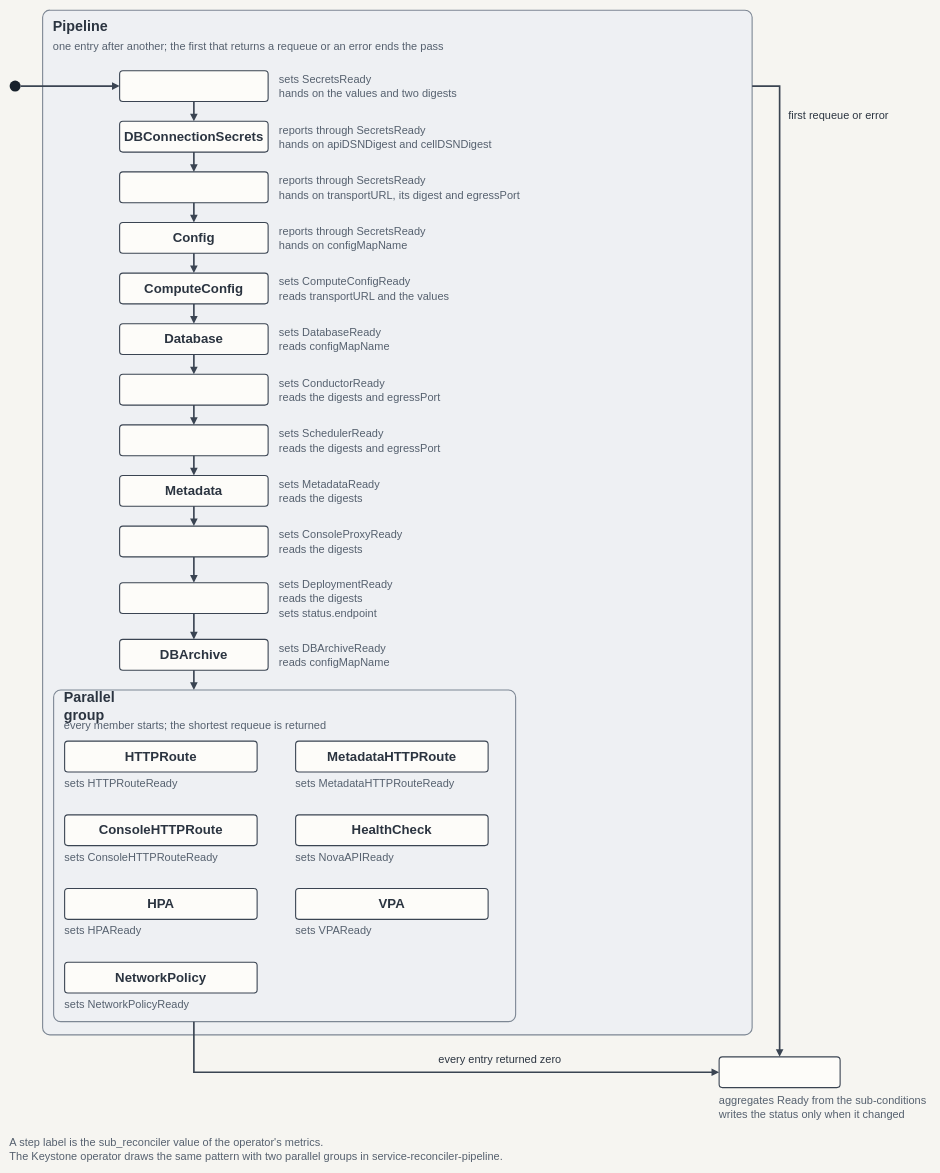
Some shapes in this 940 by 1173 pixel diagram are drawn without their labels. The centre of each missing label's shape, as x and y in pixels:
"Conductor" goes at (193,389).
"ConsoleProxy" goes at (193,541).
"Deployment" goes at (193,598).
"Scheduler" goes at (193,440).
"Secrets" goes at (193,86).
"TransportURLSecret" goes at (193,187).
"updateStatus" goes at (779,1072).
